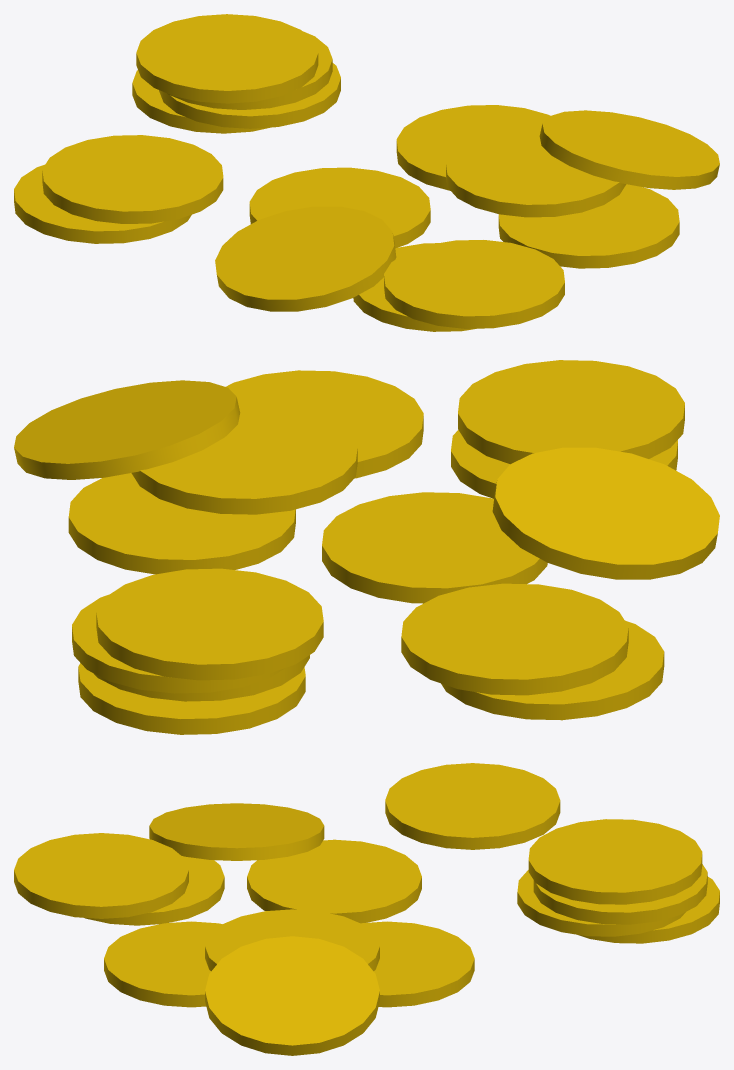
3 views of the same model, one above another, from view 1: azimuth 30°, elevation 25°; view 2: azimuth 150°, elevation 25°; view 3: azimuth 270°, elevation 25° (orthographic). The views are drawn at different scales.
Visible parts, largest first — view 1: pCylinder2; view 2: pCylinder2; view 3: pCylinder2.
Part boxes in pixels (x1,y1,x2,y2): pCylinder2: (14,14,719,331); pCylinder2: (14,360,719,734); pCylinder2: (14,763,719,1055).
Bounding box in the file's own units: 8.8 × 0.819 × 9.53.
